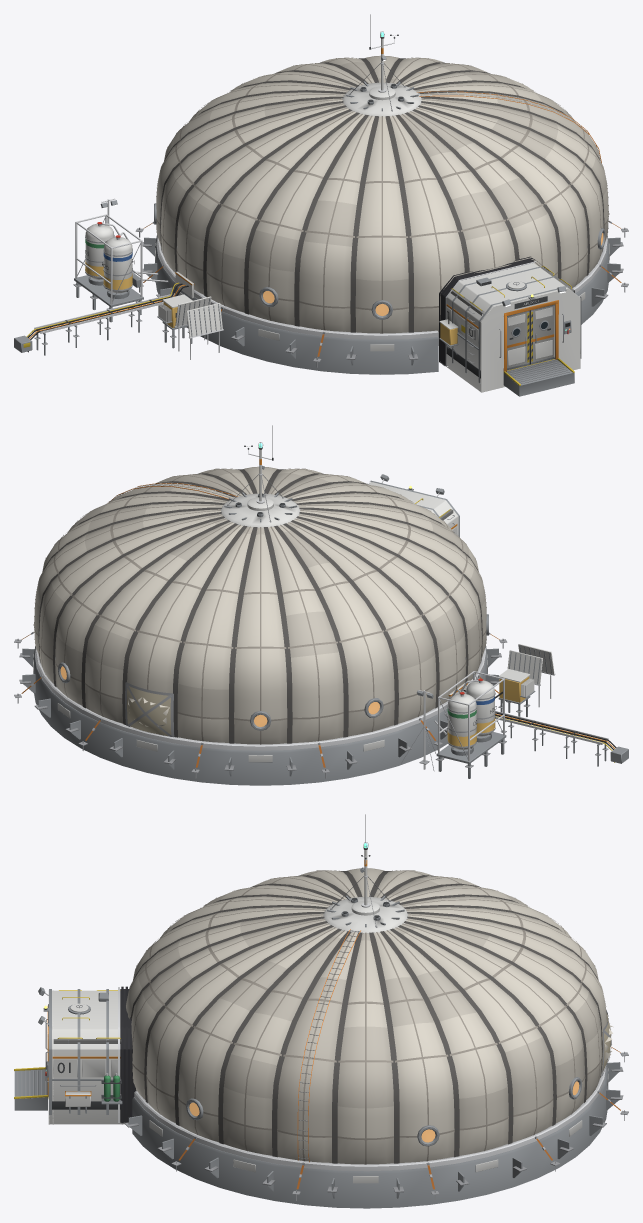
The model's file is hab.glb.
The picture shows the model from 3 angles, top to bottom: view 1: azimuth 30°, elevation 25°; view 2: azimuth 150°, elevation 25°; view 3: azimuth 270°, elevation 25°; orthographic projection. The views are drawn at different scales.
Visible parts, largest first — view 1: hab_mesh, door_outer_R_mesh, door_outer_L_mesh; view 2: hab_mesh, breach_patch_mesh; view 3: hab_mesh.
Part boxes in pixels (bbox=[...]): hab_mesh: bbox=[14, 14, 628, 396]; door_outer_R_mesh: bbox=[530, 304, 554, 364]; door_outer_L_mesh: bbox=[507, 310, 530, 370]; hab_mesh: bbox=[14, 425, 628, 785]; breach_patch_mesh: bbox=[125, 682, 174, 737]; hab_mesh: bbox=[14, 814, 628, 1208].
Size of the model in its own units: 26.16 by 11.56 by 22.58.
